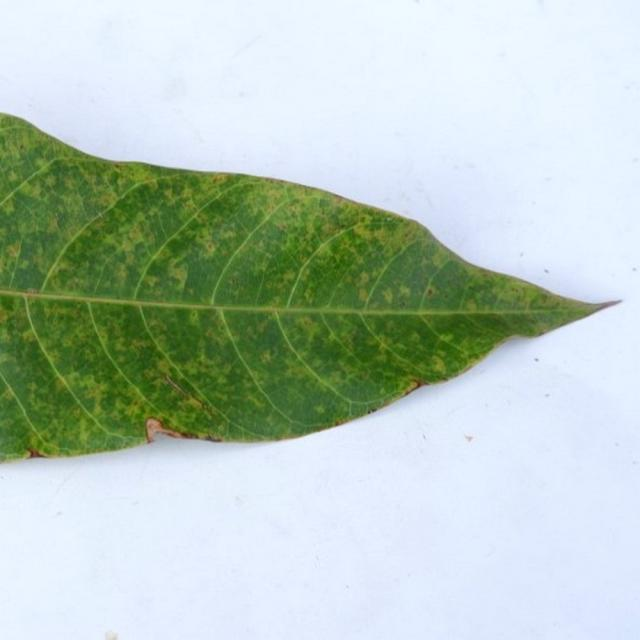Mango: (0, 113, 607, 464)
Powdery_Mildew: (0, 302, 62, 444), (3, 208, 65, 295), (461, 277, 517, 309), (135, 267, 176, 299), (59, 364, 98, 395), (9, 233, 32, 281), (106, 221, 127, 264), (1, 291, 30, 321), (167, 259, 193, 290), (163, 375, 186, 397), (2, 191, 20, 216), (127, 226, 144, 244), (4, 243, 21, 259), (258, 176, 283, 186), (144, 275, 160, 289), (299, 317, 316, 330), (380, 289, 394, 304), (398, 284, 411, 298), (211, 174, 229, 184), (358, 288, 370, 302), (358, 272, 370, 285), (44, 176, 56, 189), (303, 290, 314, 303), (230, 276, 241, 287), (402, 229, 413, 240), (314, 404, 325, 414), (201, 402, 212, 412), (511, 286, 522, 295), (468, 284, 477, 294), (334, 194, 344, 203), (277, 223, 287, 231), (96, 211, 106, 218), (426, 288, 434, 296), (334, 420, 343, 427), (339, 223, 347, 230), (367, 408, 376, 414), (113, 163, 121, 169), (20, 144, 25, 150)
